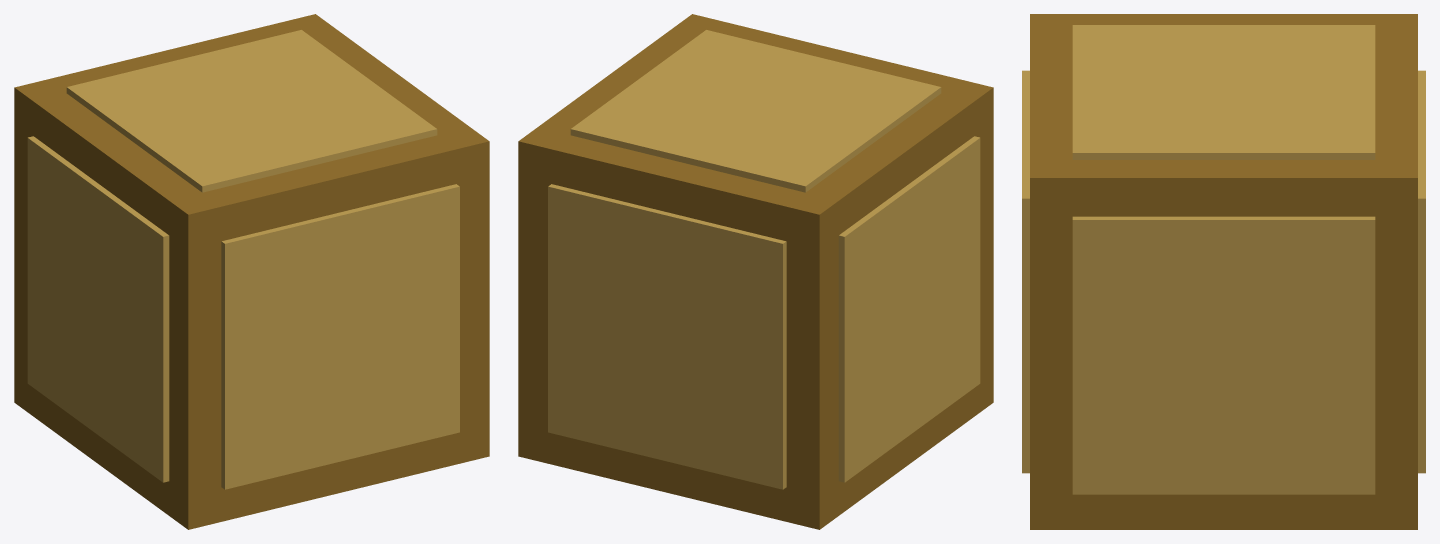
Rendered from block_plastic.glb.
3 views of the same model, side by side, from view 1: azimuth 30°, elevation 25°; view 2: azimuth 150°, elevation 25°; view 3: azimuth 270°, elevation 25° (orthographic). The views are drawn at different scales.
Parts seen in each view (by area): view 1: block_plastic; view 2: block_plastic; view 3: block_plastic.
Part boxes in pixels (x1=…): block_plastic: x1=14, y1=14, x2=489, y2=529; block_plastic: x1=518, y1=14, x2=993, y2=529; block_plastic: x1=1022, y1=14, x2=1425, y2=529.
Bounding box in the file's own units: 1.04 × 1.04 × 1.04.
